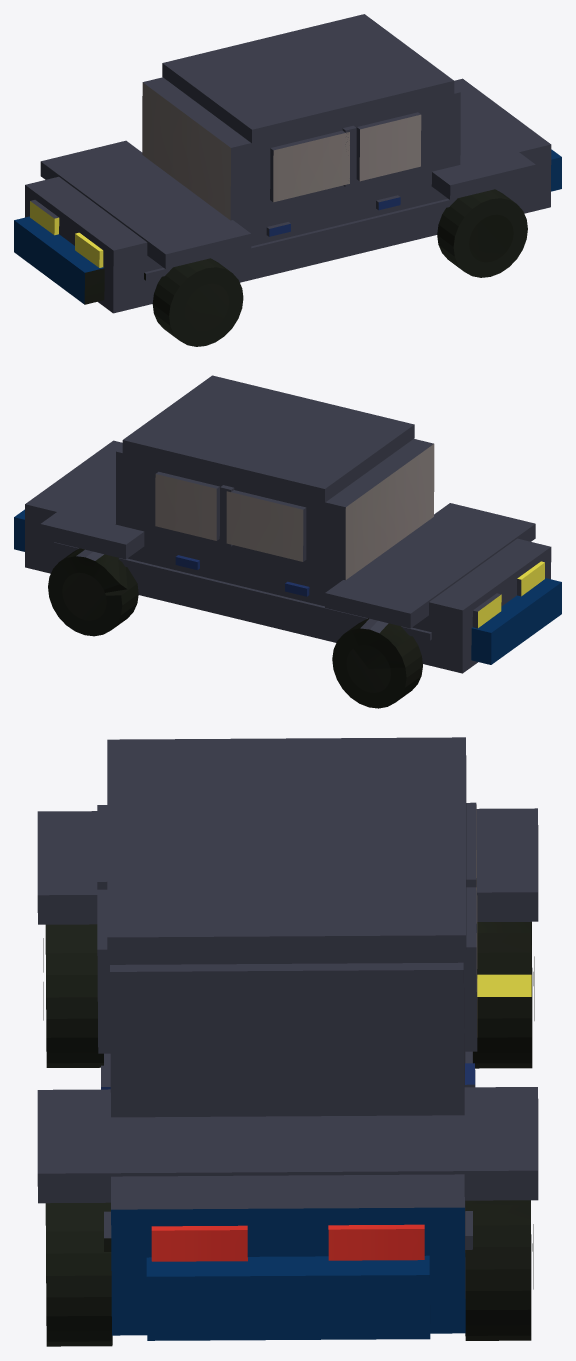
The model's file is auto.fbx.
3 views of the same model, one above another, from view 1: azimuth 30°, elevation 25°; view 2: azimuth 150°, elevation 25°; view 3: azimuth 270°, elevation 25° (orthographic). The views are drawn at different scales.
Parts seen in each view (by area): view 1: auto2; view 2: auto2; view 3: auto2.
Part boxes in pixels (<box>): auto2: <box>14,14,561,346</box>; auto2: <box>14,375,561,708</box>; auto2: <box>37,737,538,1346</box>.
Bounding box in the file's own units: 436 × 167 × 198.
Materials: 1 (1 with a texture image).
